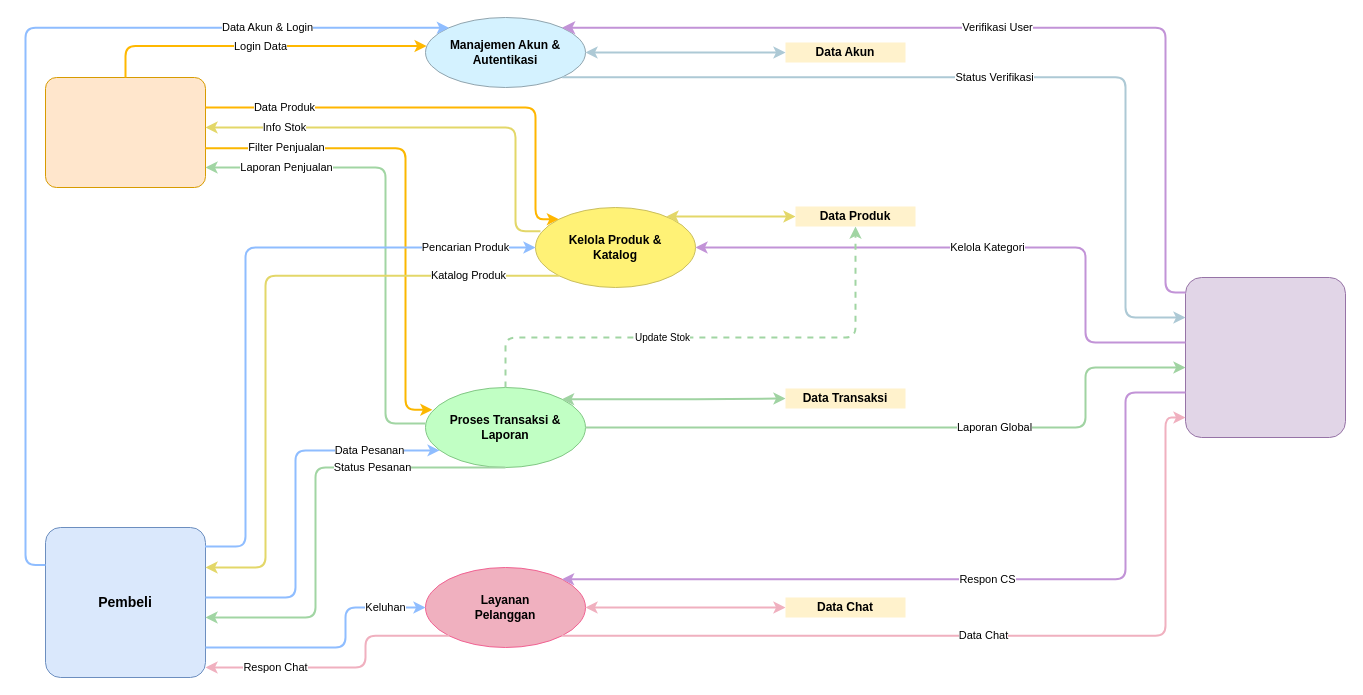
Some shapes in this 1363 by 695 pixel diagram are drawn without their labels. The shapes that lost their labels are listed below. From the top down, each one's centre as x and y in pixels, then its label:
point 125,132: Penjual
point 1265,357: Admin / CS
